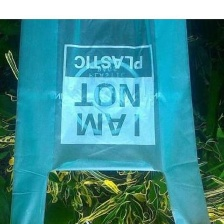plastic_bag: (8, 15, 213, 224)
